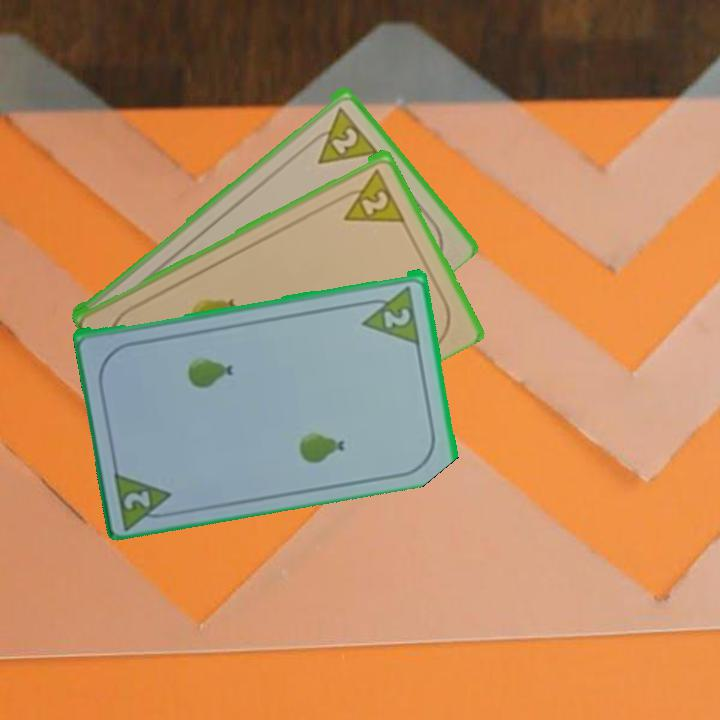2p: (303, 103, 380, 167), (110, 465, 179, 530), (333, 165, 407, 225), (380, 303, 414, 330)
